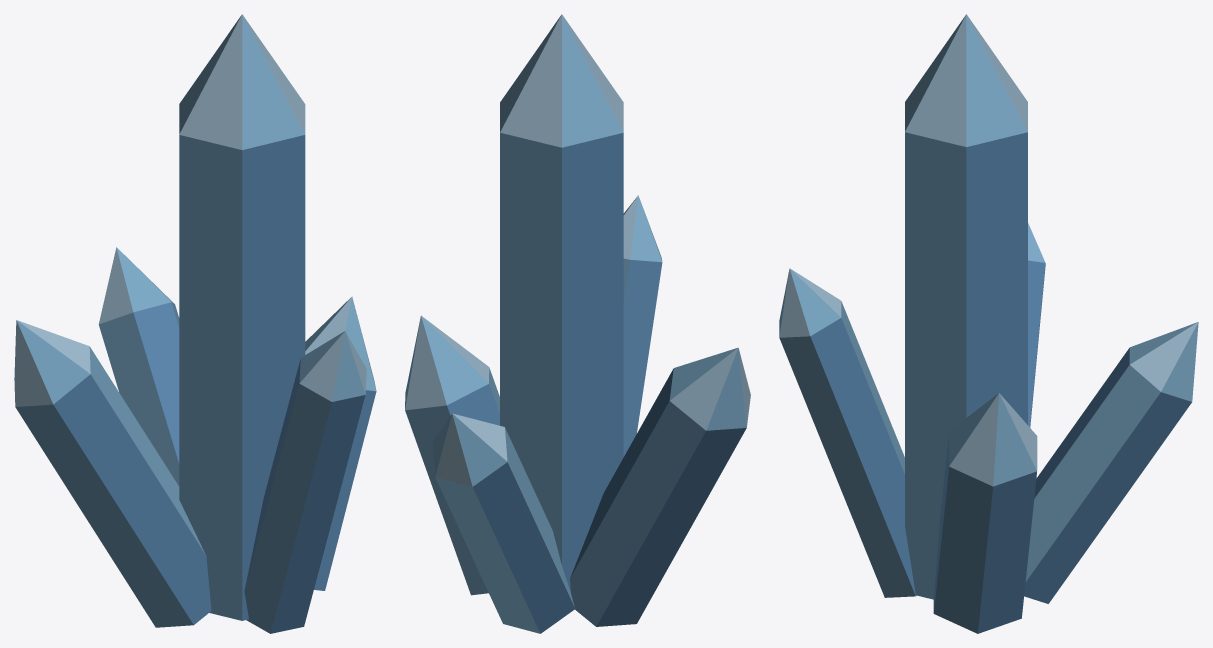
The model's file is ice_crystal.glb.
3 views of the same model, side by side, from view 1: azimuth 30°, elevation 25°; view 2: azimuth 150°, elevation 25°; view 3: azimuth 270°, elevation 25° (orthographic). The views are drawn at different scales.
Visible parts, largest first — view 1: ice_crystal2; view 2: ice_crystal2; view 3: ice_crystal2.
Boxes of the visible parts, box(x1,y1,x2,y2) form: ice_crystal2: box(14, 14, 376, 633); ice_crystal2: box(405, 14, 750, 633); ice_crystal2: box(779, 14, 1198, 633).
Size of the model in its own units: 2.36 by 3.81 by 2.48.
